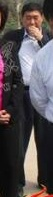boots: (2, 189, 22, 197), (0, 190, 8, 197)
